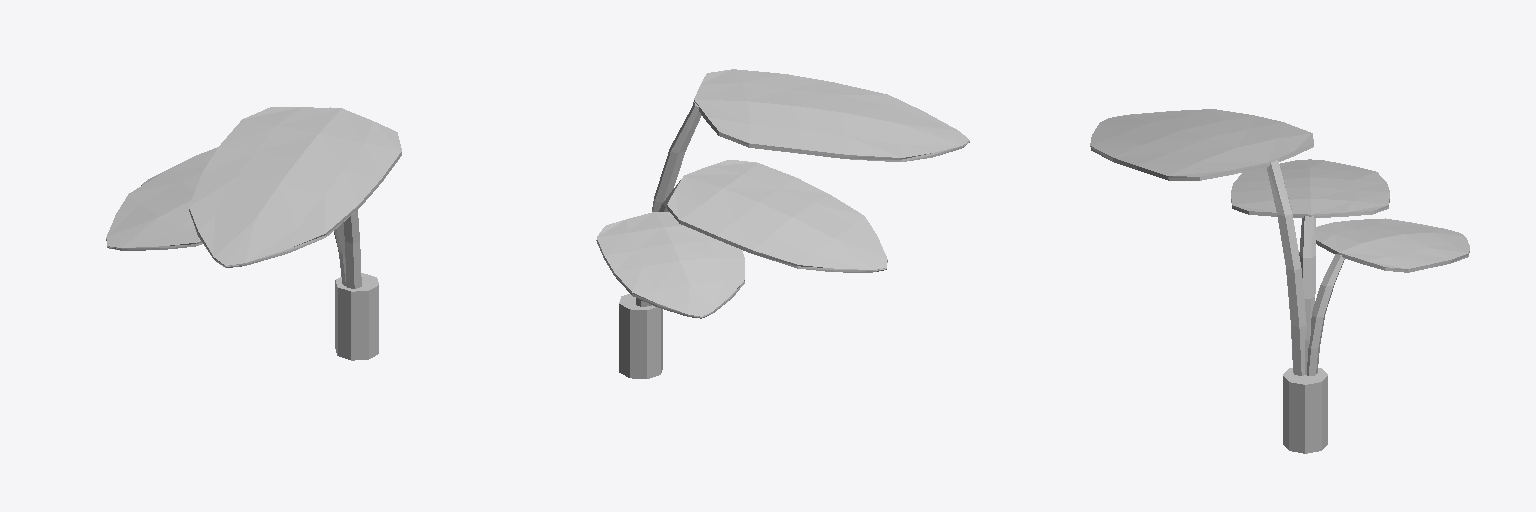
Rendered from Hojas.obj.
3 views of the same model, side by side, from view 1: azimuth 30°, elevation 25°; view 2: azimuth 150°, elevation 25°; view 3: azimuth 270°, elevation 25° (orthographic).
Parts seen in each view (by area): view 1: Cube.002_Cube.003, Cube_Cube.001, Cylinder, Cylinder.003; view 2: Cube.002_Cube.003, Cube_Cube.001, Cube.001_Cube.002, Cylinder, Cylinder.003; view 3: Cube.002_Cube.003, Cube_Cube.001, Cube.001_Cube.002, Cylinder, Cylinder.003, Cylinder.001, Cylinder.002.
Part boxes in pixels (bbox=[...]): Cube.002_Cube.003: bbox=[189, 107, 401, 267]; Cube_Cube.001: bbox=[106, 147, 217, 250]; Cylinder: bbox=[335, 273, 378, 360]; Cylinder.003: bbox=[330, 107, 361, 288]; Cube.002_Cube.003: bbox=[693, 69, 969, 161]; Cube_Cube.001: bbox=[667, 160, 887, 272]; Cube.001_Cube.002: bbox=[596, 212, 744, 318]; Cylinder: bbox=[619, 294, 662, 378]; Cylinder.003: bbox=[652, 102, 701, 211]; Cube.002_Cube.003: bbox=[1090, 109, 1313, 180]; Cube_Cube.001: bbox=[1231, 159, 1389, 217]; Cube.001_Cube.002: bbox=[1316, 218, 1469, 272]; Cylinder: bbox=[1283, 368, 1327, 453]; Cylinder.003: bbox=[1267, 159, 1306, 375]; Cylinder.001: bbox=[1299, 216, 1315, 374]; Cylinder.002: bbox=[1307, 254, 1344, 375].
Bounding box in the file's own units: 4.07 × 3.85 × 5.